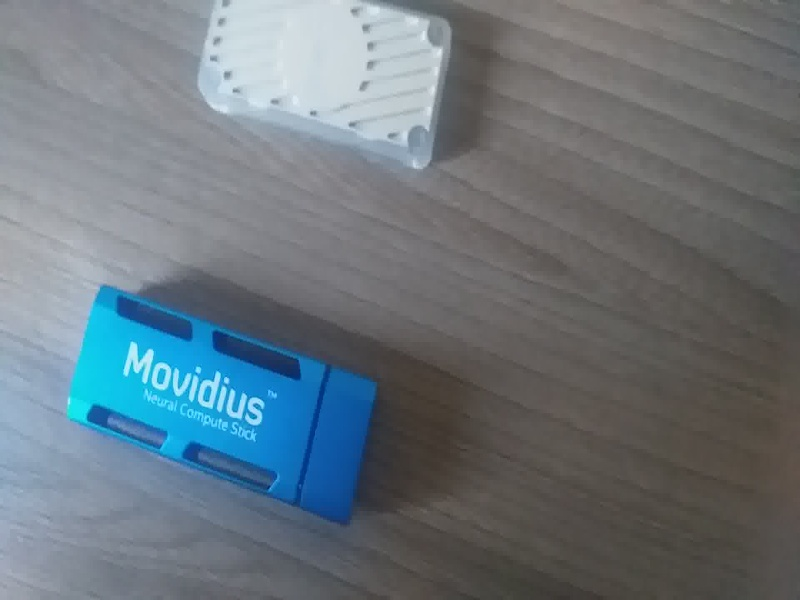coral: (197, 1, 480, 175)
movidius: (60, 280, 394, 546)
